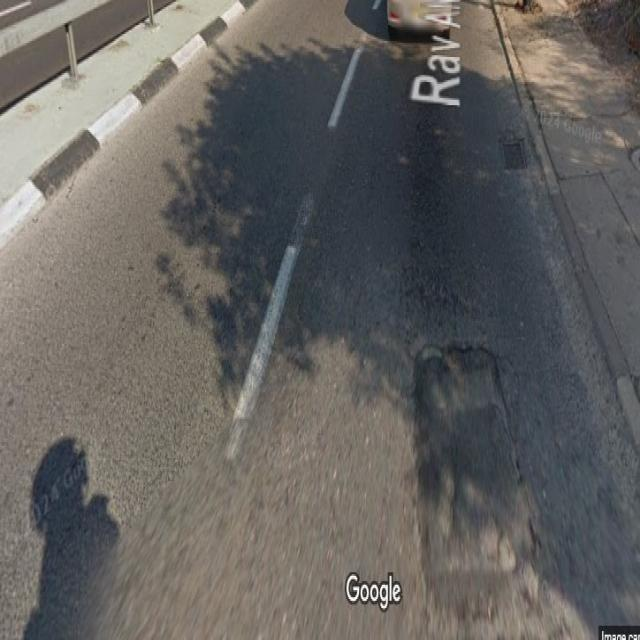medium_pothole: (408, 346, 544, 615)
